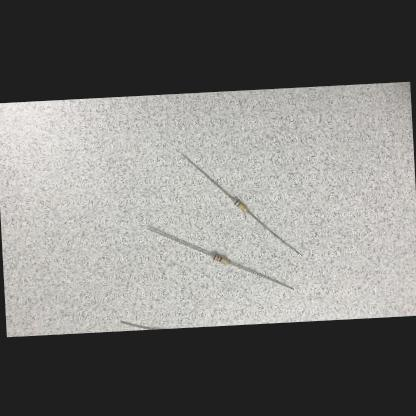resistor: (232, 196, 247, 211), (211, 252, 228, 263)
wire: (248, 206, 302, 256), (182, 150, 232, 200), (228, 258, 294, 293), (146, 223, 210, 258), (121, 318, 160, 329)
